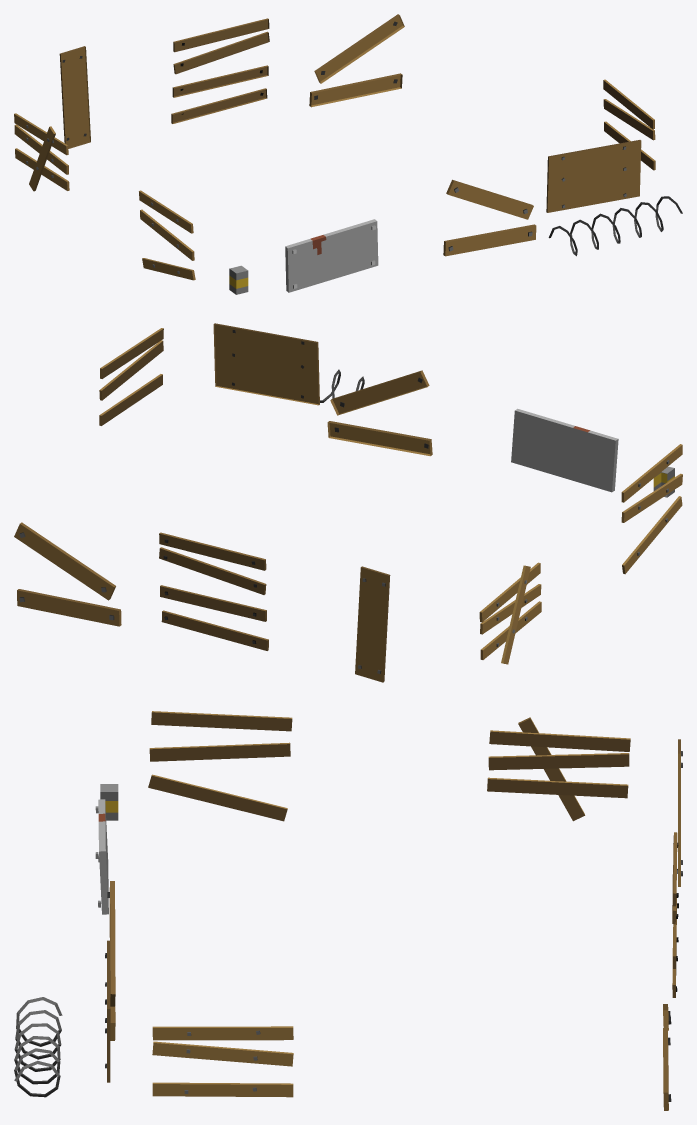
File: SA_Bld_HouseMedium_Extras_02.gltf
3 views of the same model, one above another, from view 1: azimuth 30°, elevation 25°; view 2: azimuth 150°, elevation 25°; view 3: azimuth 270°, elevation 25° (orthographic). The views are drawn at different scales.
Visible parts, largest first — view 1: SA_Bld_HouseMedium_Extras_02; view 2: SA_Bld_HouseMedium_Extras_02; view 3: SA_Bld_HouseMedium_Extras_02.
Part boxes in pixels (x1,y1,x2,y2): SA_Bld_HouseMedium_Extras_02: (14,14,682,294); SA_Bld_HouseMedium_Extras_02: (14,323,682,682); SA_Bld_HouseMedium_Extras_02: (14,711,682,1110).
Bounding box in the file's own units: 16.11 × 3.72 × 14.75.
1 material, 1 textured.
